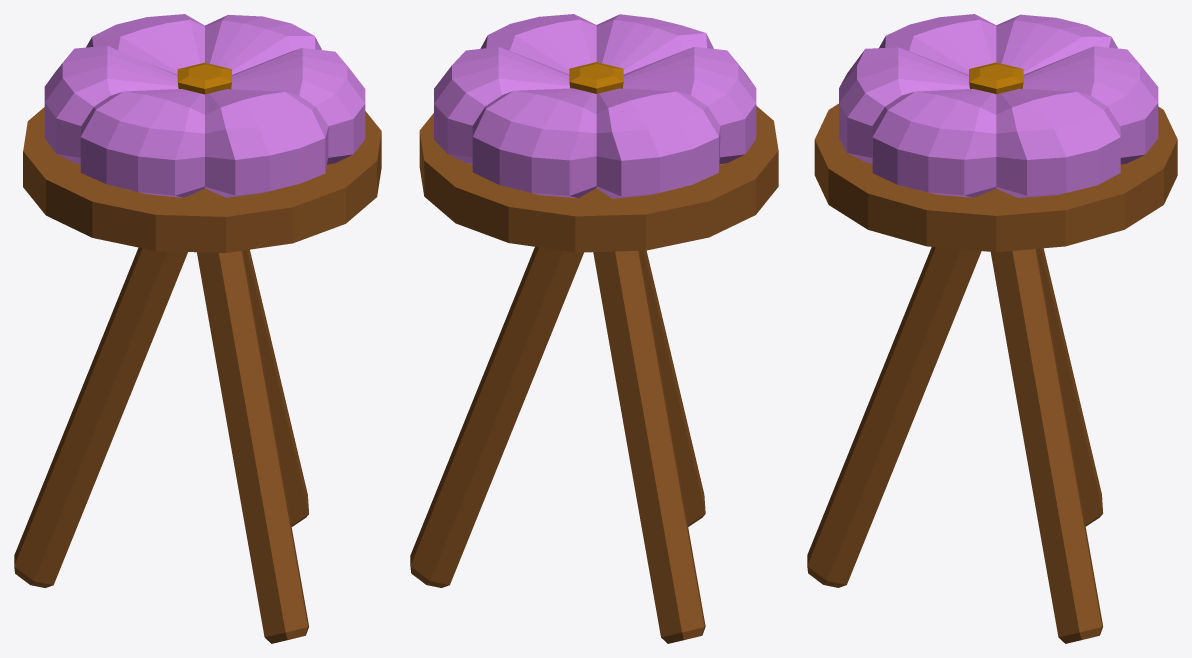
File: stool.fbx
3 views of the same model, side by side, from view 1: azimuth 30°, elevation 25°; view 2: azimuth 150°, elevation 25°; view 3: azimuth 270°, elevation 25° (orthographic).
Visible parts, largest first — view 1: StoolL.001; view 2: StoolL.001; view 3: StoolL.001.
Boxes of the visible parts, x1,y1,x2,y2 form: StoolL.001: (14,14,381,643); StoolL.001: (410,14,778,643); StoolL.001: (807,14,1177,643).
Bounding box in the file's own units: 140 × 223 × 143.
